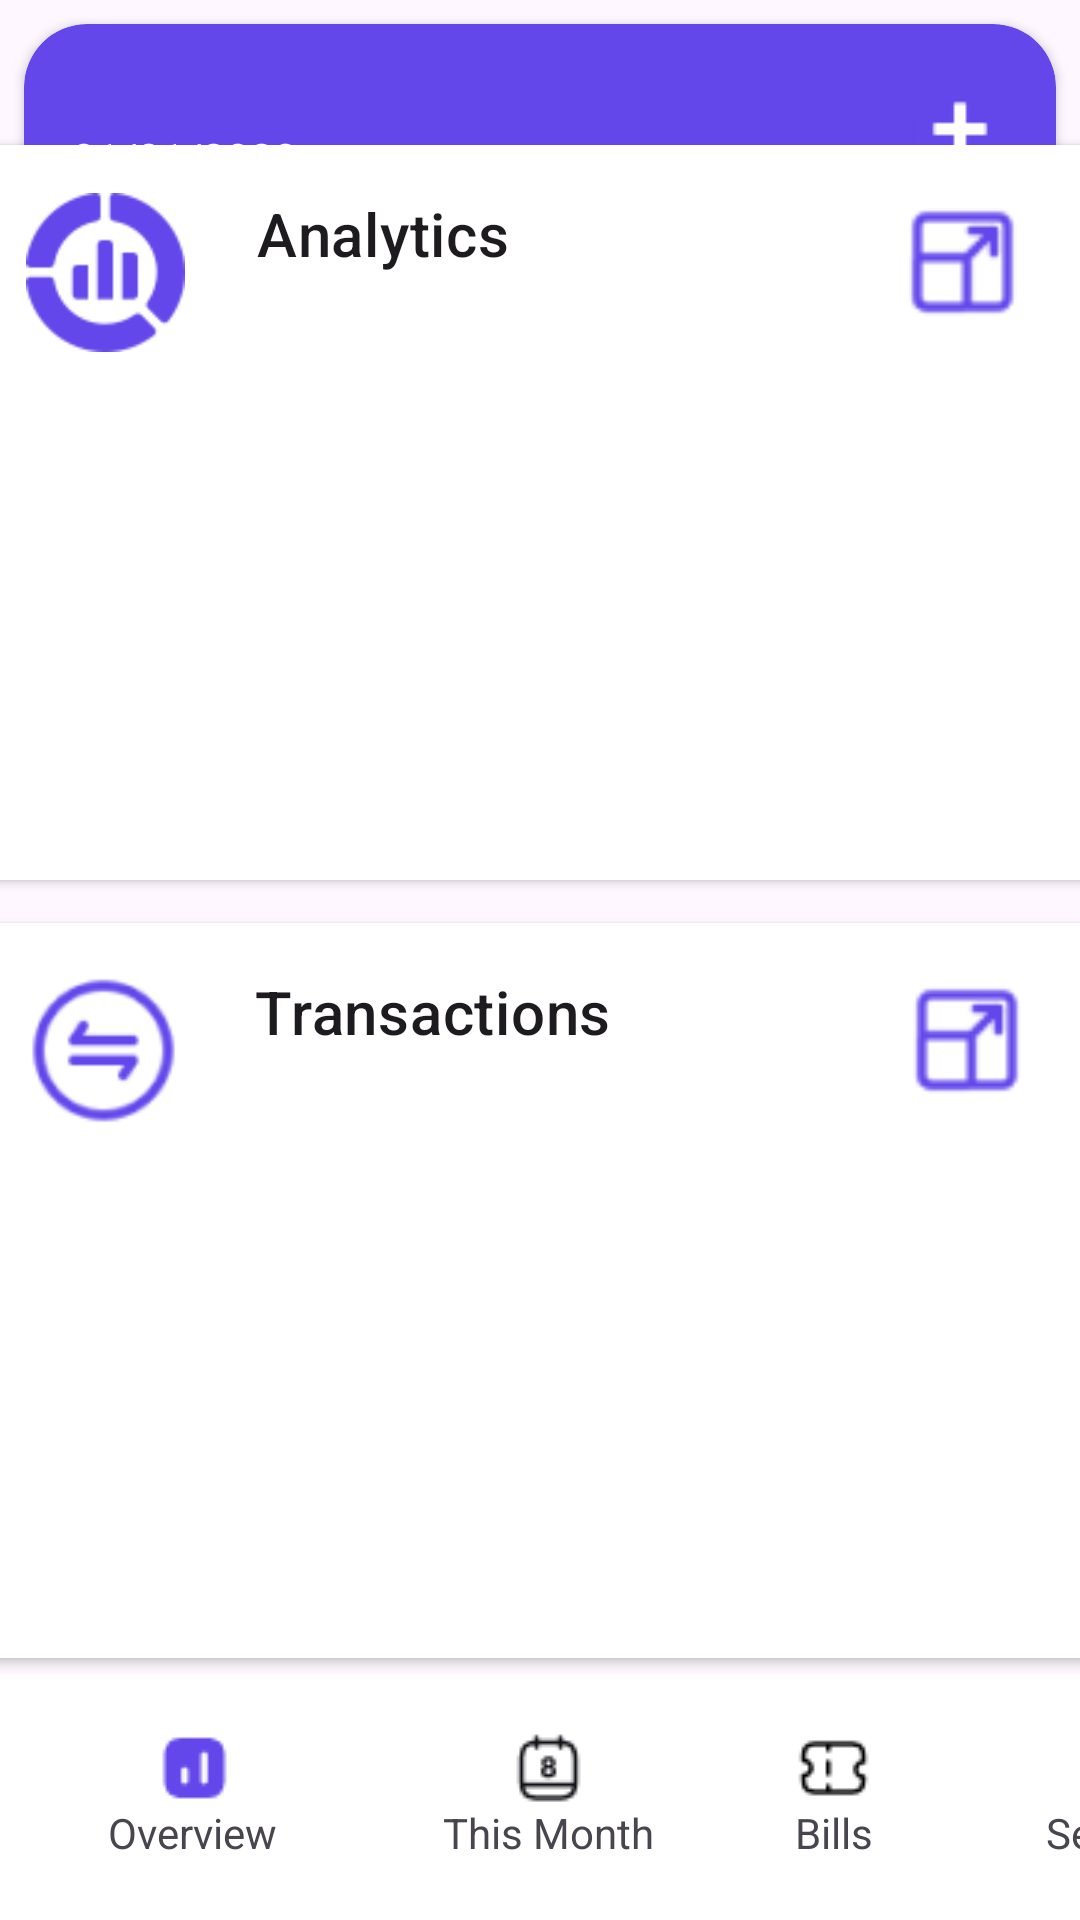

Icon click points for this 1080x1920 phone screenshot, format [x,y]:
chart: [105,272]
fullscreen: [962,262], [967,1040]
plus: [960,129]
